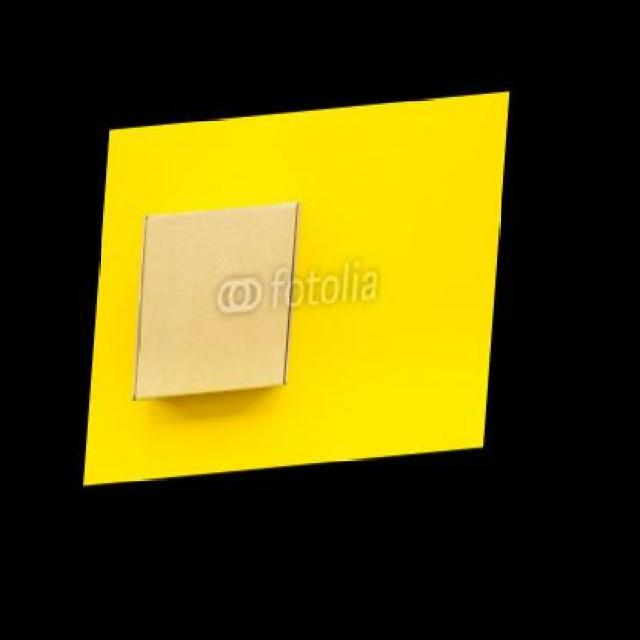box: (134, 206, 302, 400)
